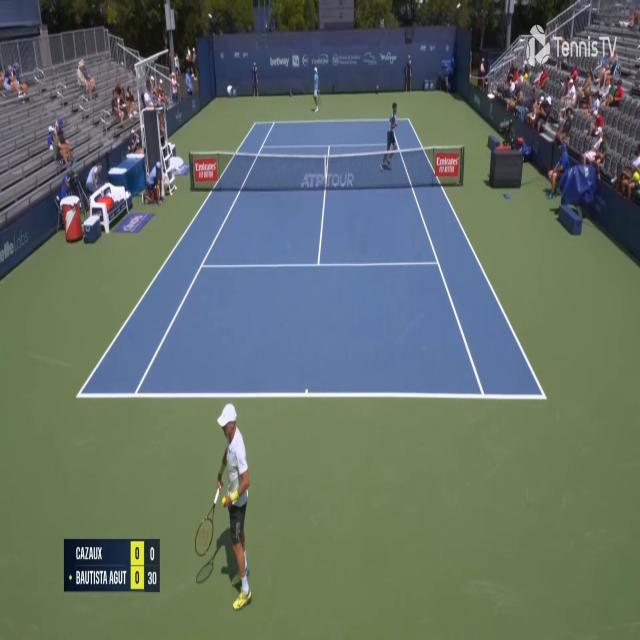tennis-player: (192, 400, 258, 615), (311, 64, 321, 113)
